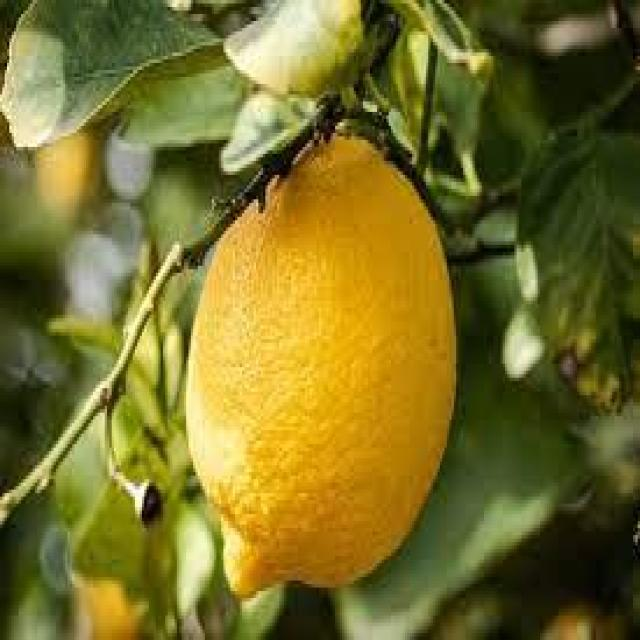fruit: (171, 105, 477, 591)
